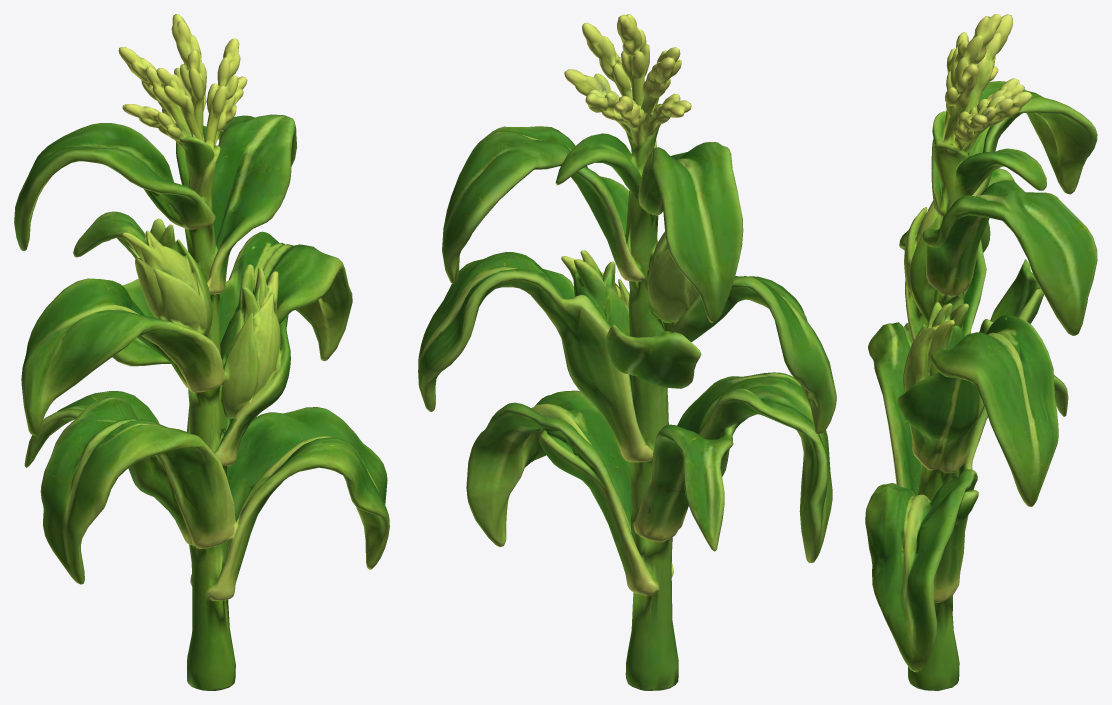
Rendered from corn-growing.glb.
The picture shows the model from 3 angles, left to right: view 1: azimuth 30°, elevation 25°; view 2: azimuth 150°, elevation 25°; view 3: azimuth 270°, elevation 25°; orthographic projection. The views are drawn at different scales.
Size of the model in its own units: 1.1 by 1.9 by 0.6012.
Materials: 1 (1 with a texture image).
